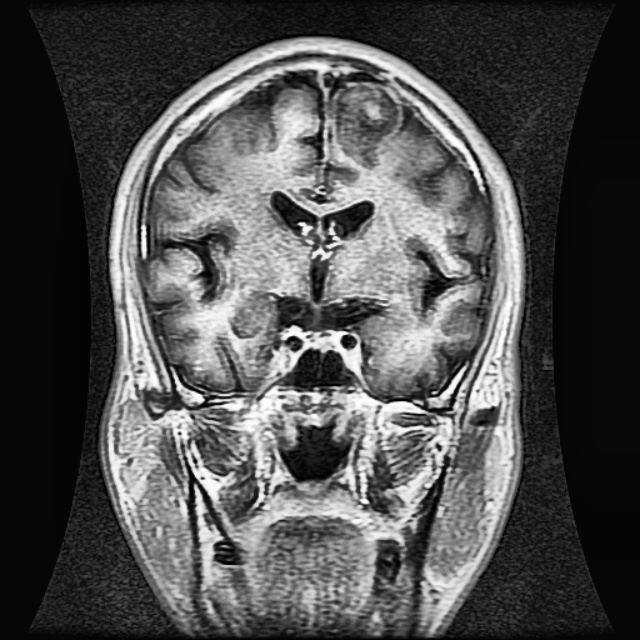Glioma: (329, 80, 398, 167)
